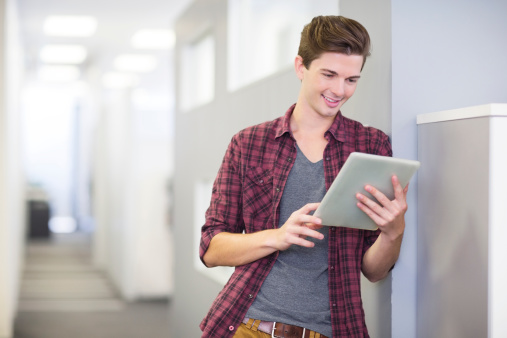em pe: (185, 13, 411, 338)
